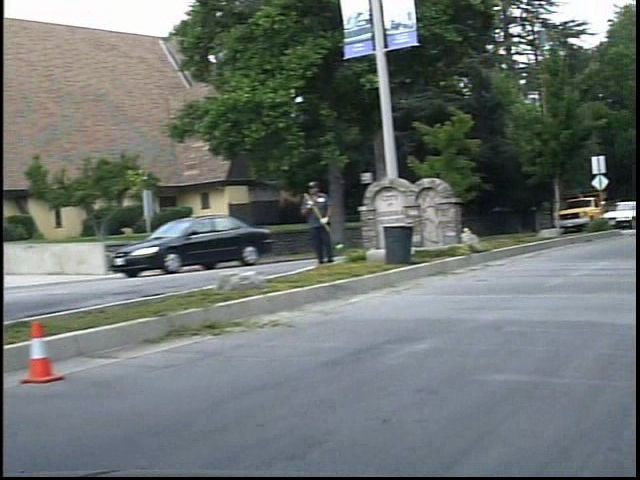person: (309, 176, 349, 267)
